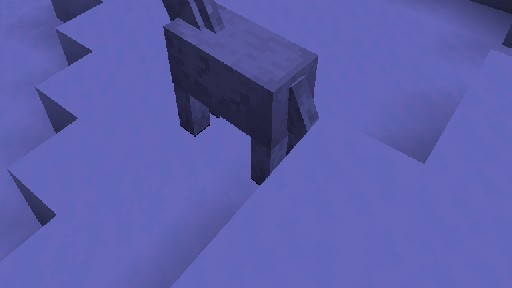horse: (126, 0, 333, 200)
